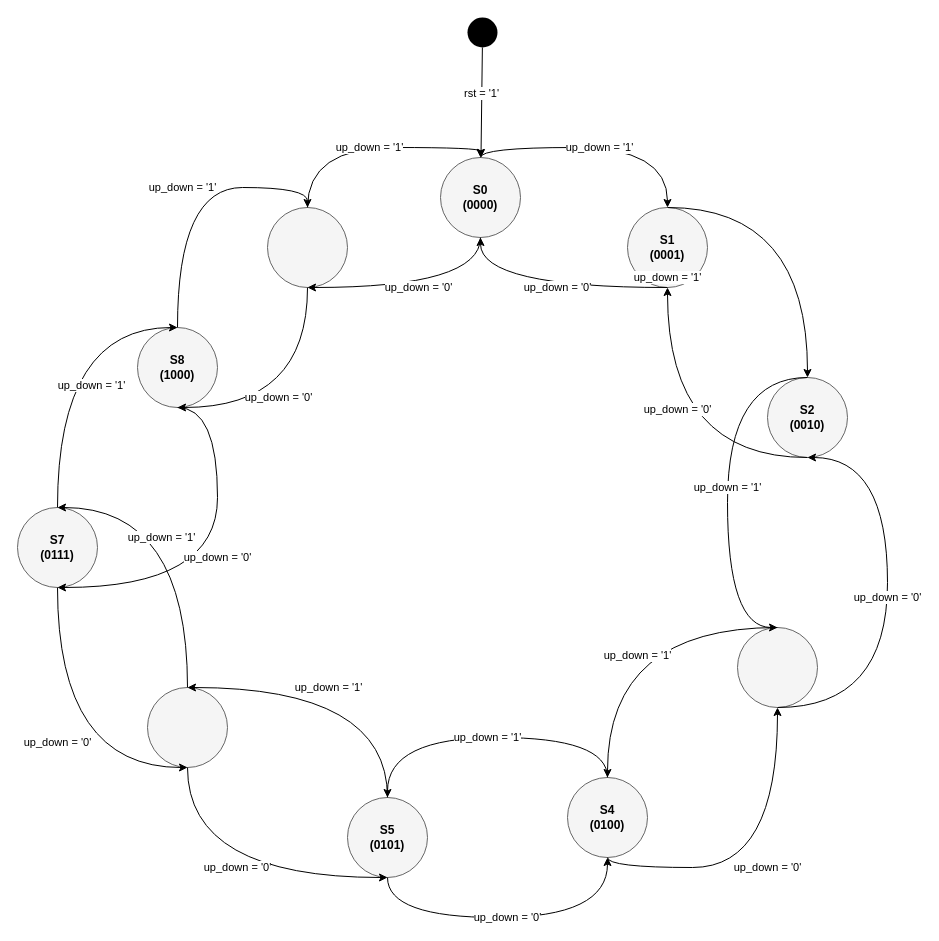
The diagram is 939 pixels wide and 941 high, and some of its shapes have lost their labels. The shapes that lost their labels are listed below. From the top down, each one's centre as x and y in pixels, then its label:
At (x=307, y=247): "S9 (1001)".
At (x=777, y=667): "S3 (0011)".
At (x=187, y=727): "S6 (0110)".
